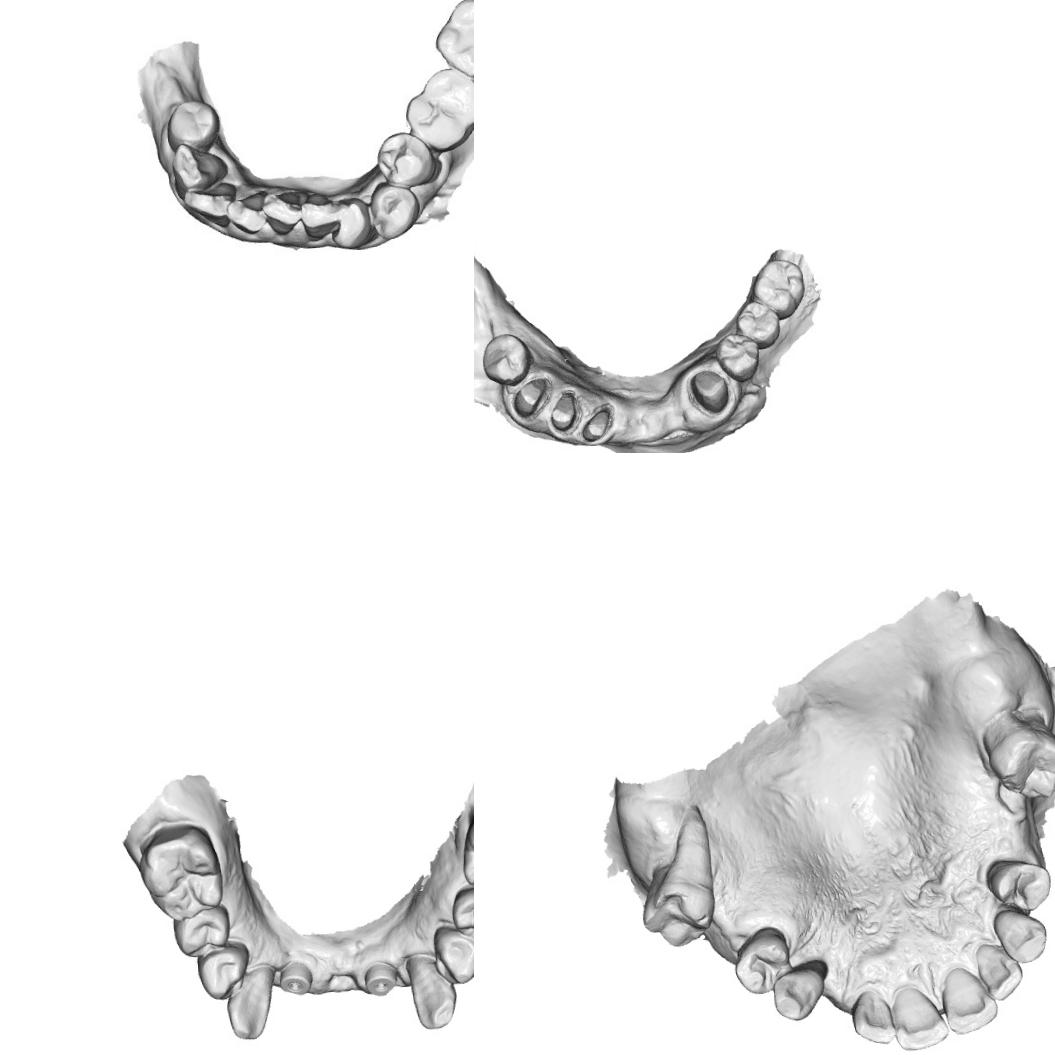canine: (402, 951, 461, 1032), (223, 962, 281, 1042), (991, 905, 1049, 967), (770, 962, 826, 1022), (168, 141, 226, 191), (326, 193, 372, 249)
crown: (684, 366, 732, 418), (510, 374, 554, 420), (545, 387, 582, 436), (576, 401, 616, 444)
implant: (362, 959, 398, 998), (278, 958, 313, 998)
incisor: (940, 964, 1000, 1036), (890, 981, 949, 1052), (972, 941, 1025, 1005), (848, 989, 897, 1046), (263, 186, 306, 236), (297, 195, 338, 243), (229, 188, 269, 234), (184, 180, 231, 219)
molar: (136, 820, 226, 926), (636, 861, 718, 952), (403, 68, 474, 154), (983, 721, 1055, 803), (430, 0, 474, 83), (750, 257, 806, 321)
premolar: (730, 924, 794, 996), (983, 854, 1052, 913), (362, 181, 424, 245), (191, 941, 253, 1004), (167, 905, 230, 963), (377, 130, 437, 188), (428, 922, 474, 987), (480, 330, 532, 387), (165, 97, 220, 148), (711, 330, 762, 384), (732, 297, 781, 350), (447, 883, 474, 948)
